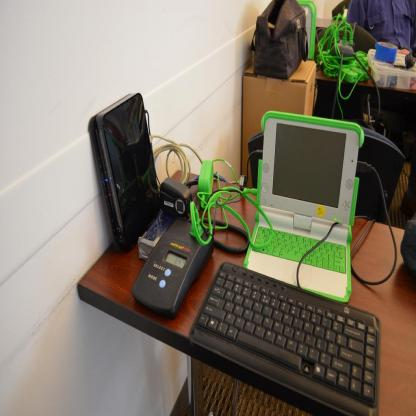board: (244, 126, 364, 304), (296, 0, 315, 61)
